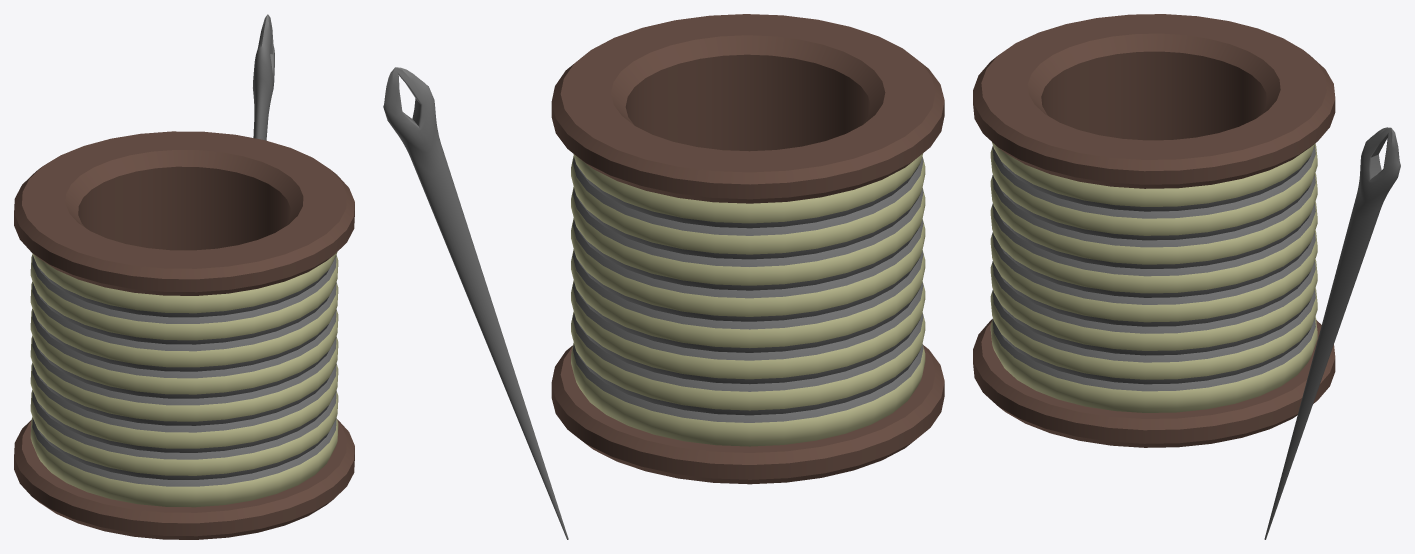
Rendered from Thread.fbx.
The picture shows the model from 3 angles, left to right: view 1: azimuth 30°, elevation 25°; view 2: azimuth 150°, elevation 25°; view 3: azimuth 270°, elevation 25°; orthographic projection. The views are drawn at different scales.
Parts seen in each view (by area): view 1: Thread.001; view 2: Thread.001; view 3: Thread.001.
Boxes of the visible parts, x1=… form: Thread.001: x1=14, y1=14, x2=354, y2=539; Thread.001: x1=383, y1=14, x2=944, y2=539; Thread.001: x1=973, y1=14, x2=1400, y2=539.
Size of the model in its own units: 31.22 by 36.8 by 31.11.
